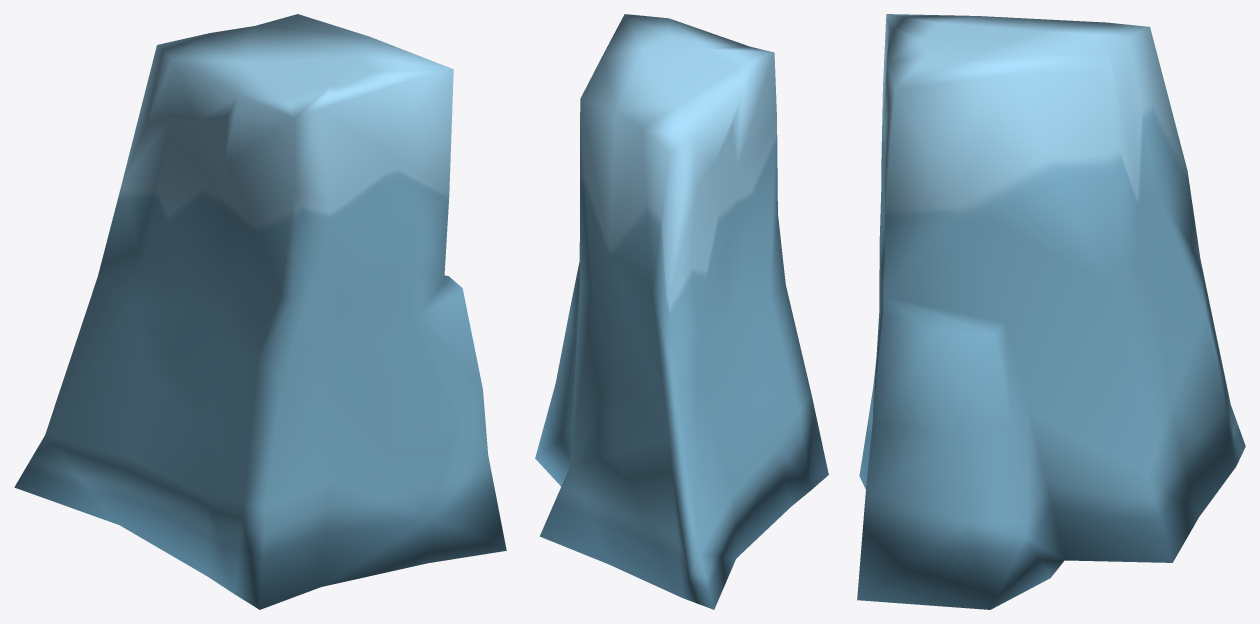
The model's file is fixedUV.fbx.
3 renders of one model, left to right at view 1: azimuth 30°, elevation 25°; view 2: azimuth 150°, elevation 25°; view 3: azimuth 270°, elevation 25°, orthographic. The views are drawn at different scales.
Parts seen in each view (by area): view 1: Cliff_L.000; view 2: Cliff_L.000; view 3: Cliff_L.000.
Boxes of the visible parts, x1,y1,x2,y2 form: Cliff_L.000: [14, 14, 506, 609]; Cliff_L.000: [535, 14, 828, 609]; Cliff_L.000: [857, 14, 1245, 609].
Bounding box in the file's own units: 5.83 × 8.26 × 5.86.
2 materials, 2 textured.
